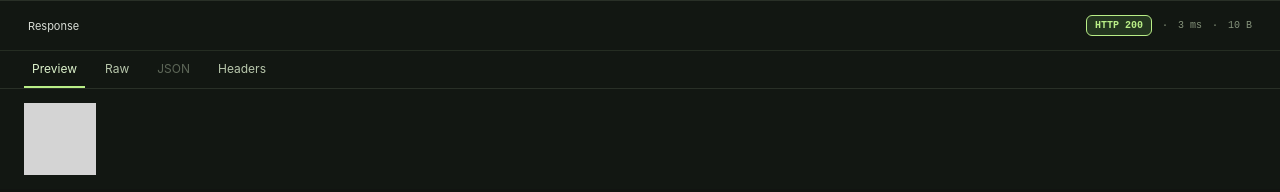
opens images in the Preview tab and keeps Raw and Headers available
Click the tab "Raw". click: (117, 70)
box: [97, 51, 137, 88]
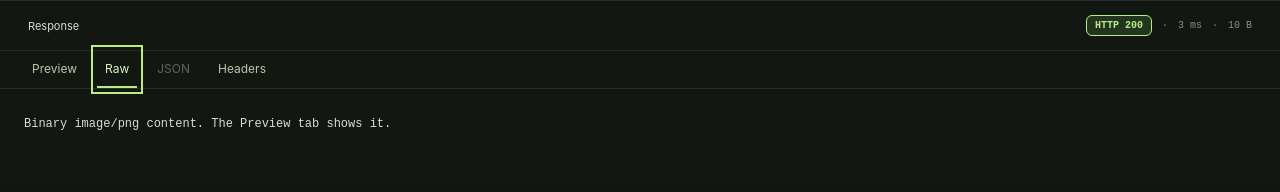
Expected: the tab "JSON" is disabled, [149, 51, 198, 88]
Expected: the panel reads "Binary image/png content. The Preview tab shows it.", [24, 117, 391, 131]
